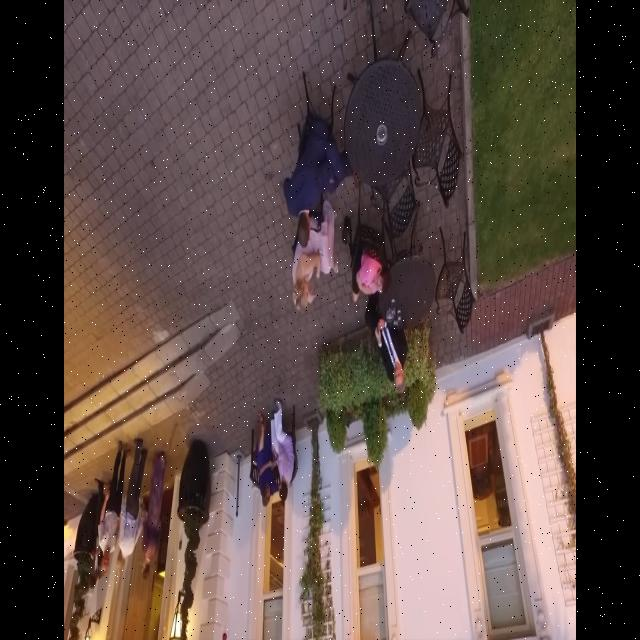humans: (281, 111, 351, 256), (287, 234, 341, 326), (138, 439, 168, 585), (116, 435, 148, 571), (343, 228, 393, 310), (96, 436, 125, 575), (365, 312, 411, 392), (271, 391, 297, 505), (255, 406, 274, 514)
